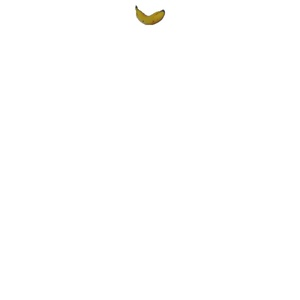banana: (130, 4, 169, 28)
